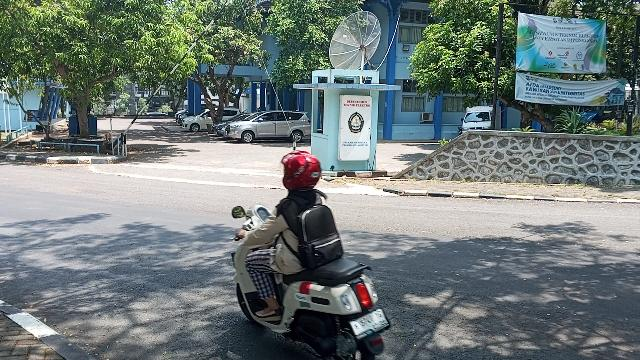helm: (281, 150, 324, 192)
motor: (231, 204, 395, 360)
